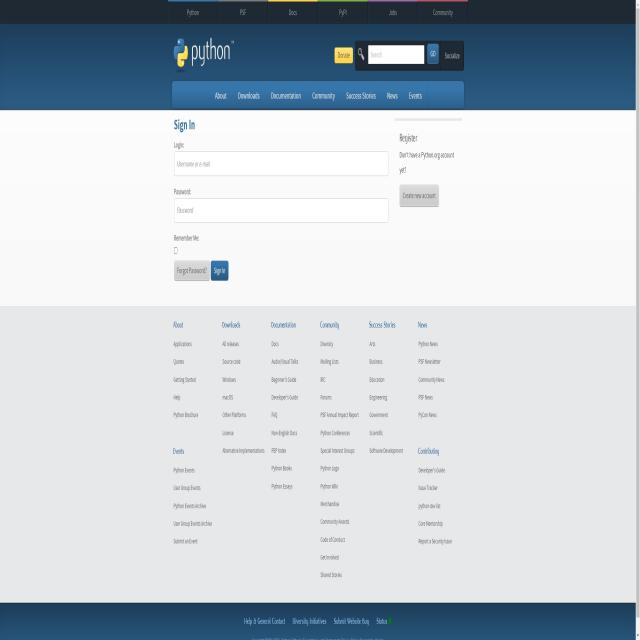search: (354, 41, 440, 70)
tab-bar: (198, 80, 434, 108)
